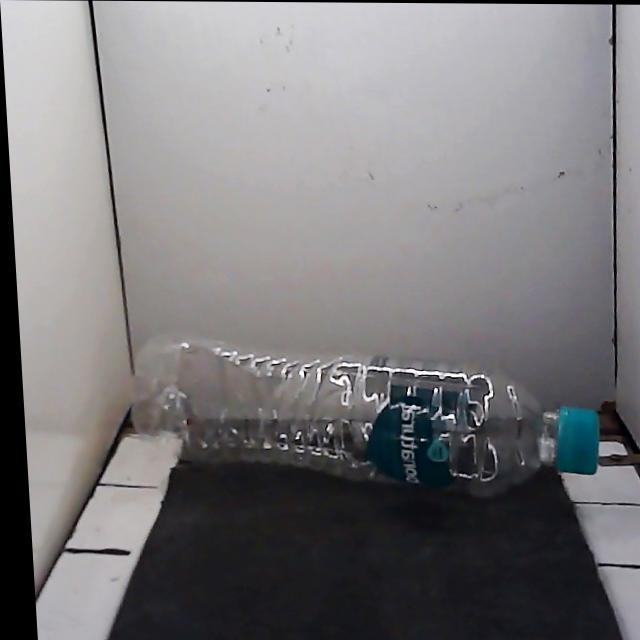plastico: (131, 339, 598, 495)
